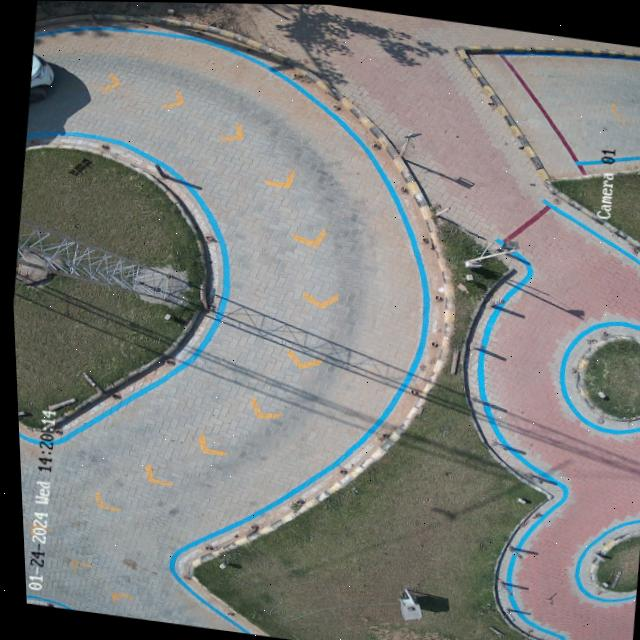car: (28, 48, 51, 102)
